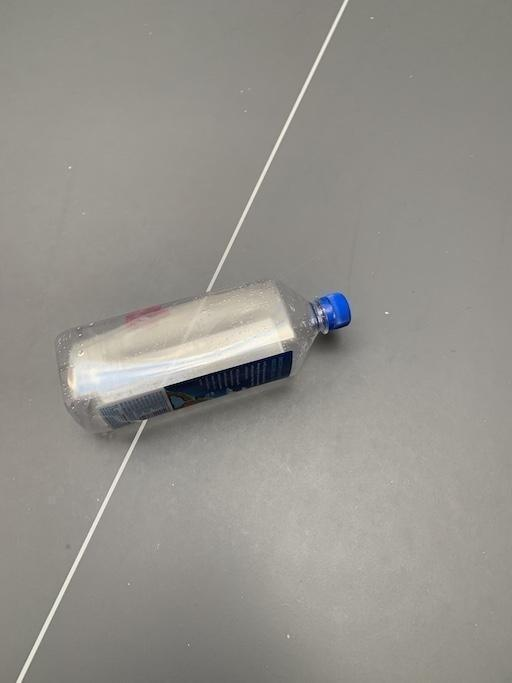bottle-plastic: (55, 276, 351, 432)
